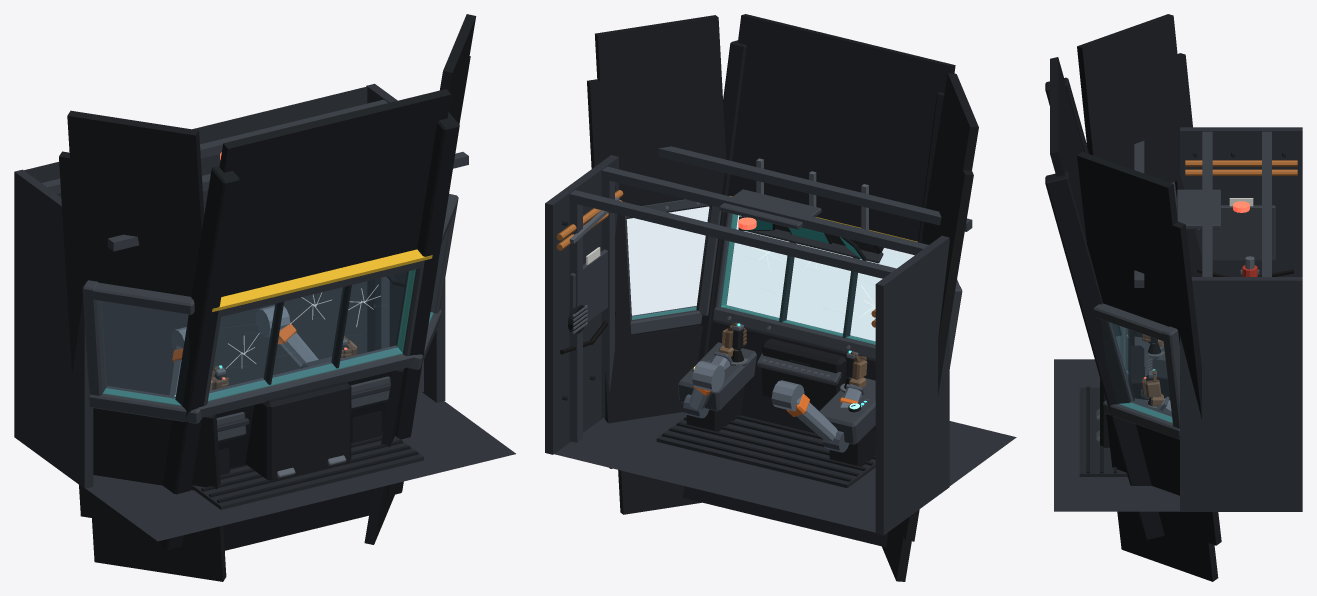
Rendered from cockpit_interior_mk1.glb.
3 views of the same model, side by side, from view 1: azimuth 30°, elevation 25°; view 2: azimuth 150°, elevation 25°; view 3: azimuth 270°, elevation 25° (orthographic). The views are drawn at different scales.
Parts seen in each view (by area): view 1: bulkhead_top, cabin_shell, side_bulkhead_top_-1, cabin_wall_-1, side_bulkhead_bottom_-1, window_corner_post_-1, dash_body, side_bulkhead_outer_-1, window_corner_post_+1, bulkhead_bottom, window_frame_bottom, floor_grate (+17 smaller); view 2: bulkhead_top, side_bulkhead_top_+1, cabin_wall_-1, cabin_ribs, cabin_shell, cabin_wall_+1, side_bulkhead_bottom_+1, bulkhead_bottom, side_bulkhead_top_-1, floor_grate, floor_grate_slats, side_bulkhead_outer_+1 (+22 smaller); view 3: cabin_wall_+1, side_bulkhead_top_-1, side_bulkhead_top_+1, cabin_wall_-1, window_corner_post_+1, cabin_shell, side_bulkhead_bottom_+1, side_bulkhead_outer_+1, cabin_ribs, bulkhead_top, wall_panel_-1, floor_grate (+11 smaller).
Part boxes in pixels (x1,y1,x2,y2): bulkhead_top: [219, 89, 451, 296]; cabin_shell: [24, 86, 515, 541]; side_bulkhead_top_-1: [67, 110, 204, 296]; cabin_wall_-1: [14, 169, 93, 488]; side_bulkhead_bottom_-1: [92, 409, 226, 581]; window_corner_post_-1: [159, 166, 239, 550]; dash_body: [245, 381, 351, 480]; side_bulkhead_outer_-1: [59, 151, 110, 520]; window_corner_post_+1: [386, 112, 459, 496]; bulkhead_bottom: [216, 371, 392, 550]; window_frame_bottom: [198, 345, 415, 417]; floor_grate: [191, 432, 423, 509]; bulkhead_top: [728, 14, 955, 241]; side_bulkhead_top_+1: [595, 15, 726, 205]; cabin_wall_-1: [875, 235, 949, 535]; cabin_ribs: [569, 146, 972, 442]; cabin_shell: [554, 412, 1016, 532]; cabin_wall_+1: [545, 155, 618, 454]; side_bulkhead_bottom_+1: [614, 325, 702, 514]; bulkhead_bottom: [683, 321, 887, 547]; side_bulkhead_top_-1: [922, 73, 978, 275]; floor_grate: [656, 415, 875, 488]; floor_grate_slats: [662, 415, 875, 481]; side_bulkhead_outer_+1: [587, 79, 631, 468]; cabin_wall_+1: [1180, 277, 1302, 511]; side_bulkhead_top_-1: [1077, 14, 1184, 182]; side_bulkhead_top_+1: [1077, 151, 1184, 331]; cabin_wall_-1: [1180, 127, 1302, 276]; window_corner_post_+1: [1045, 171, 1164, 540]; cabin_shell: [1054, 359, 1179, 511]; side_bulkhead_bottom_+1: [1106, 414, 1218, 581]; side_bulkhead_outer_+1: [1159, 221, 1221, 545]; cabin_ribs: [1134, 131, 1271, 287]; bulkhead_top: [1050, 57, 1085, 232]; wall_panel_-1: [1212, 205, 1275, 260]; floor_grate: [1079, 387, 1127, 476].
Bounding box in the file's own units: 2.43 × 2.71 × 1.51.
